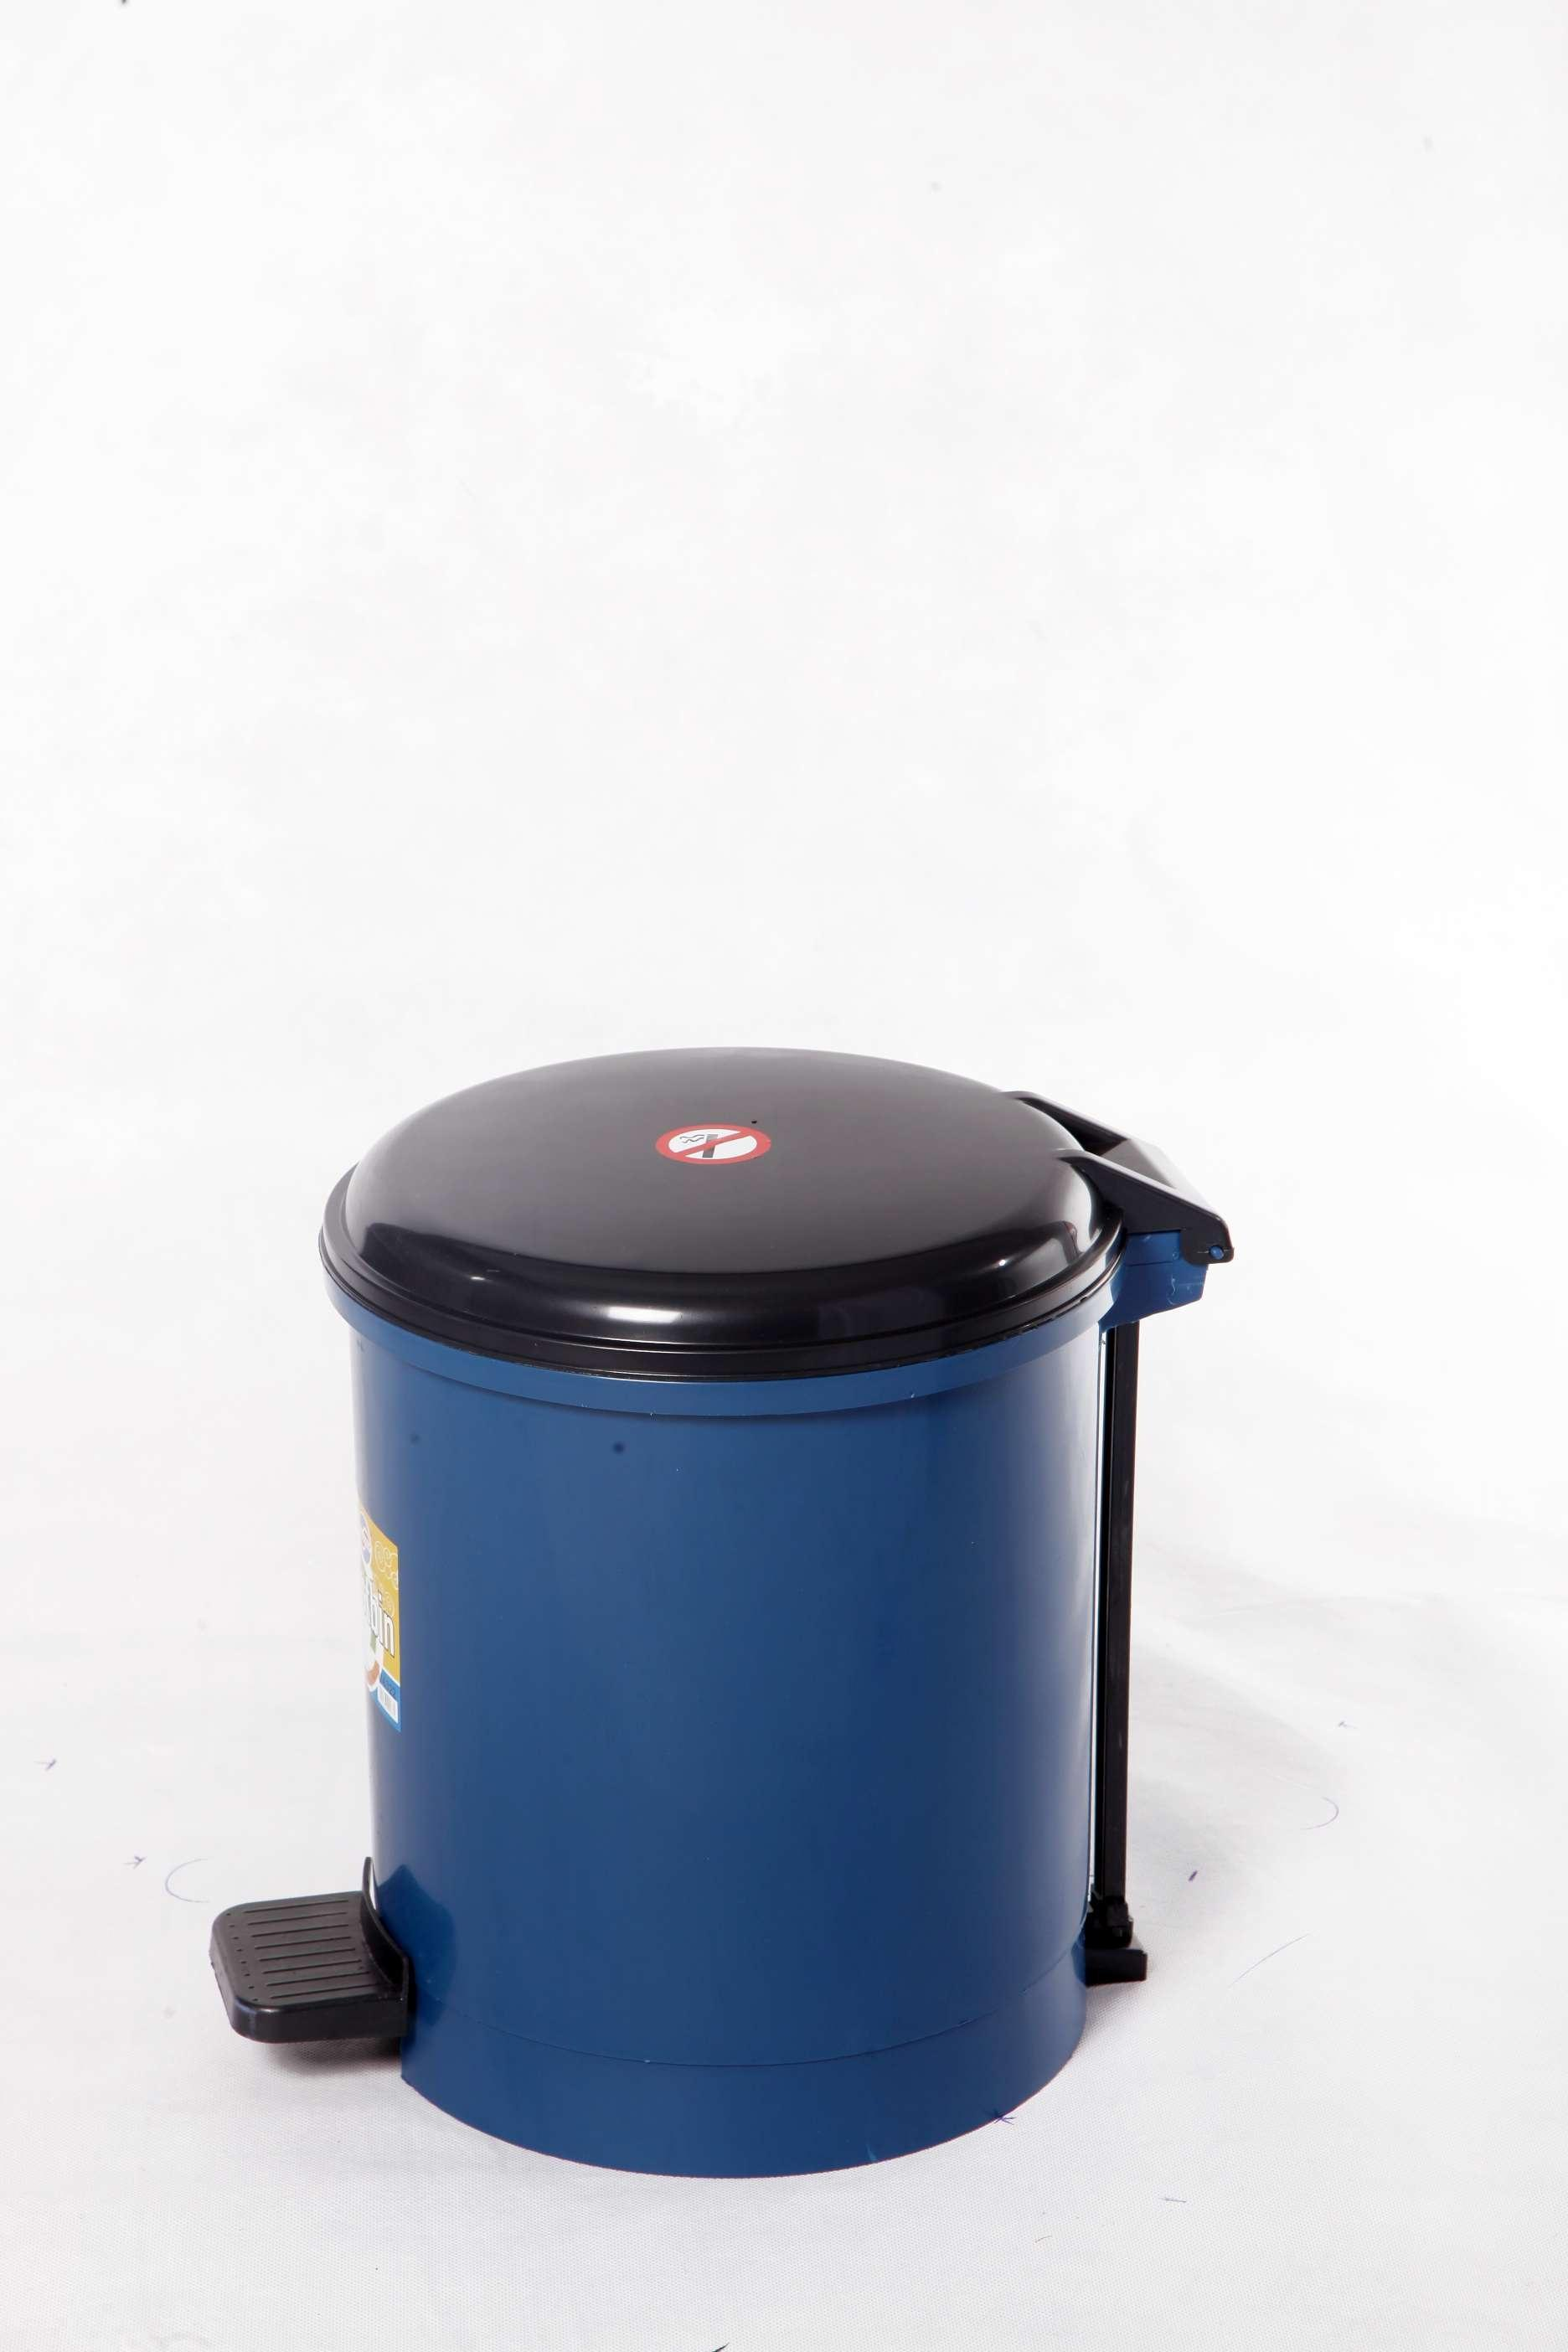Bote de Basura: (217, 1060, 1227, 2180)
